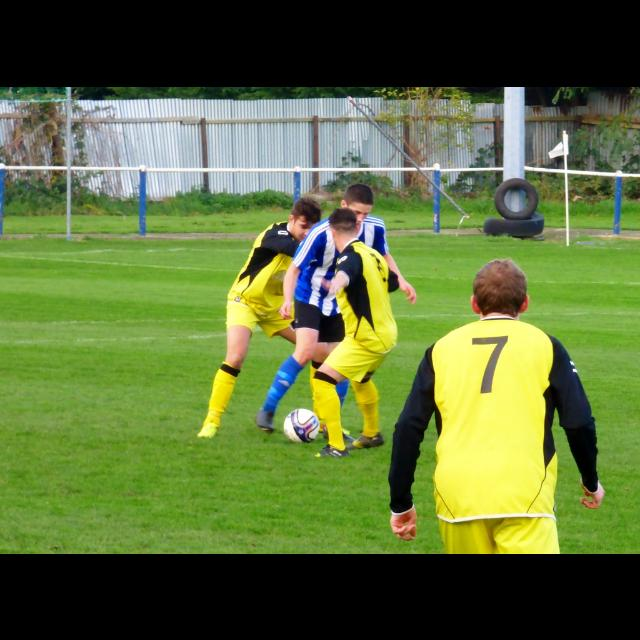Football: (282, 406, 320, 442)
